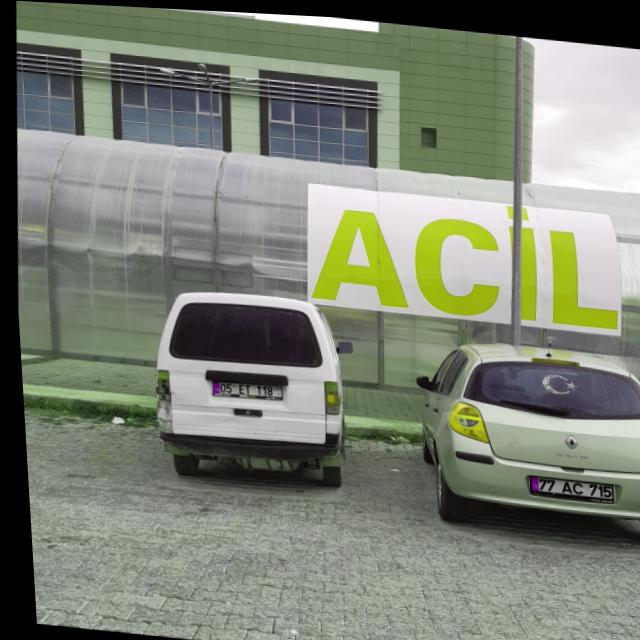license_plate: (523, 470, 608, 495), (208, 377, 277, 397)
